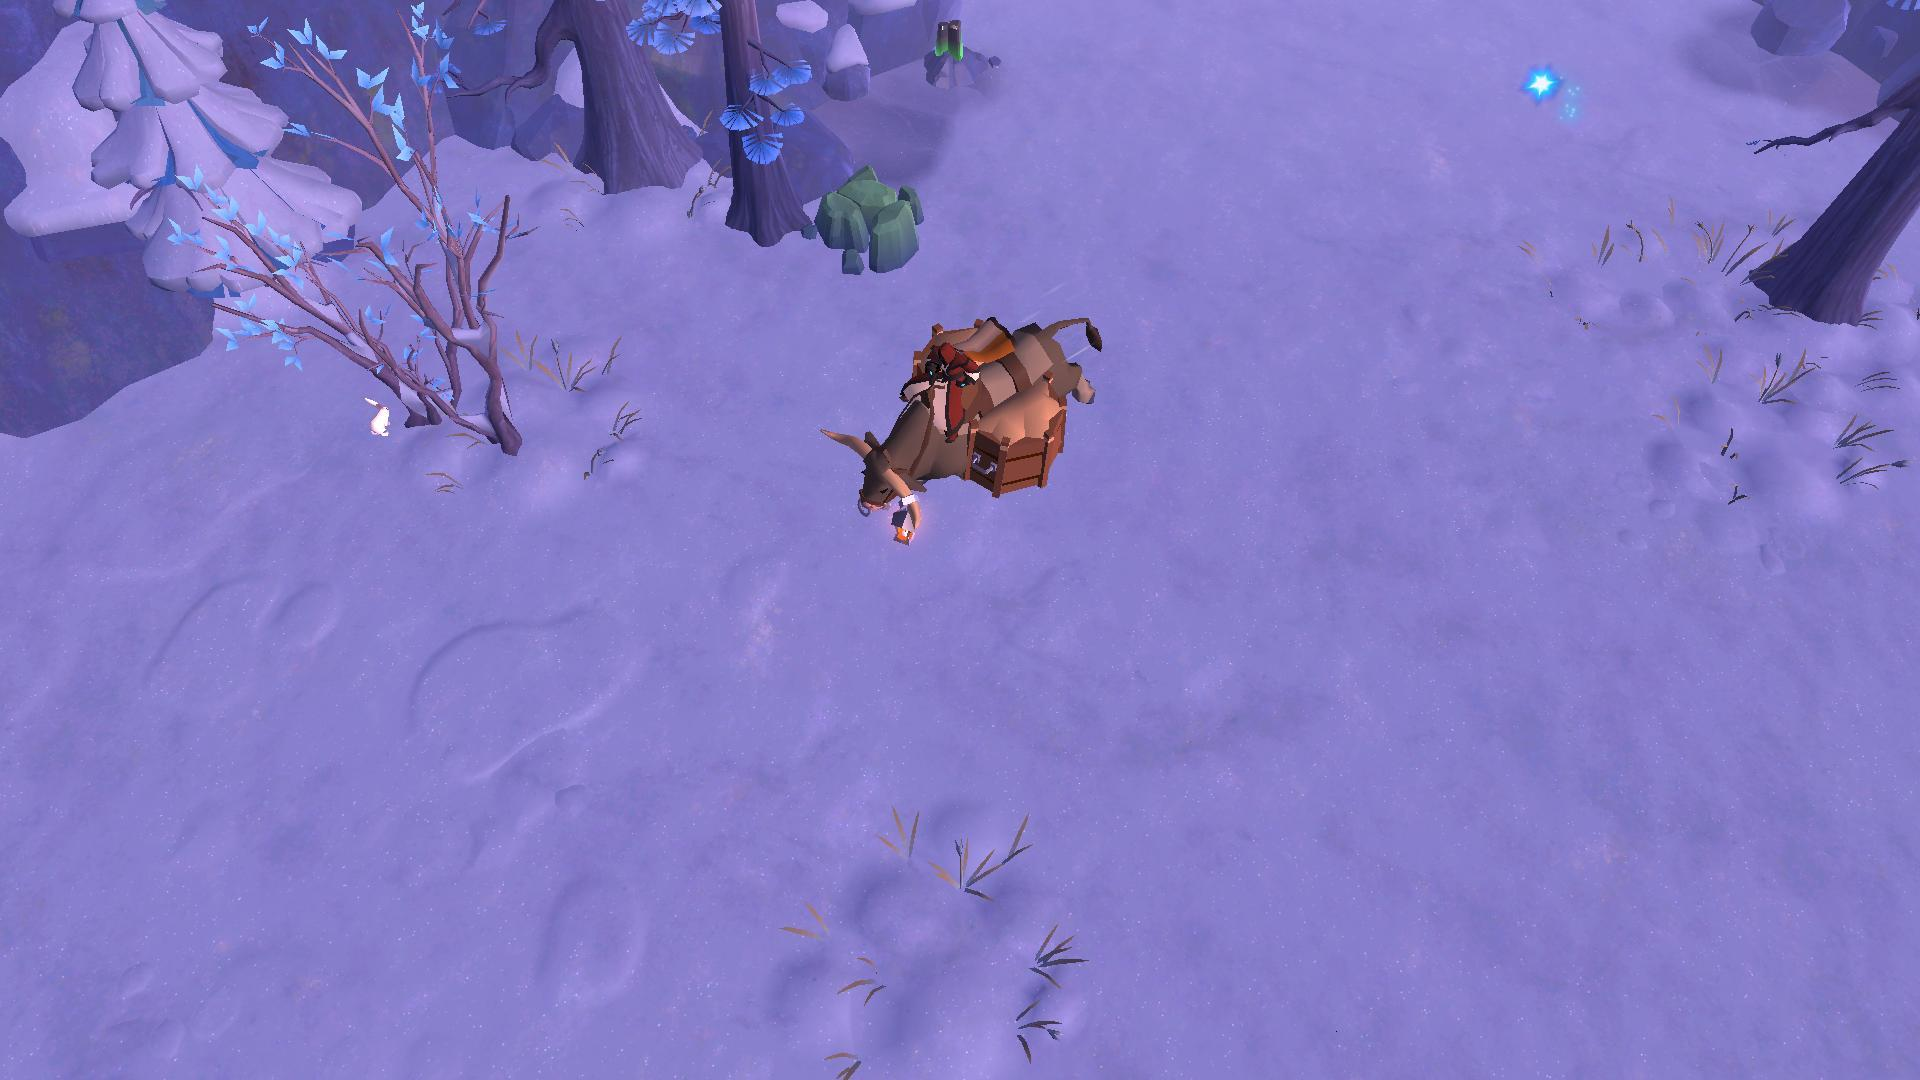ore_t3: (932, 9, 969, 70)
rock_t3: (790, 157, 930, 278)
